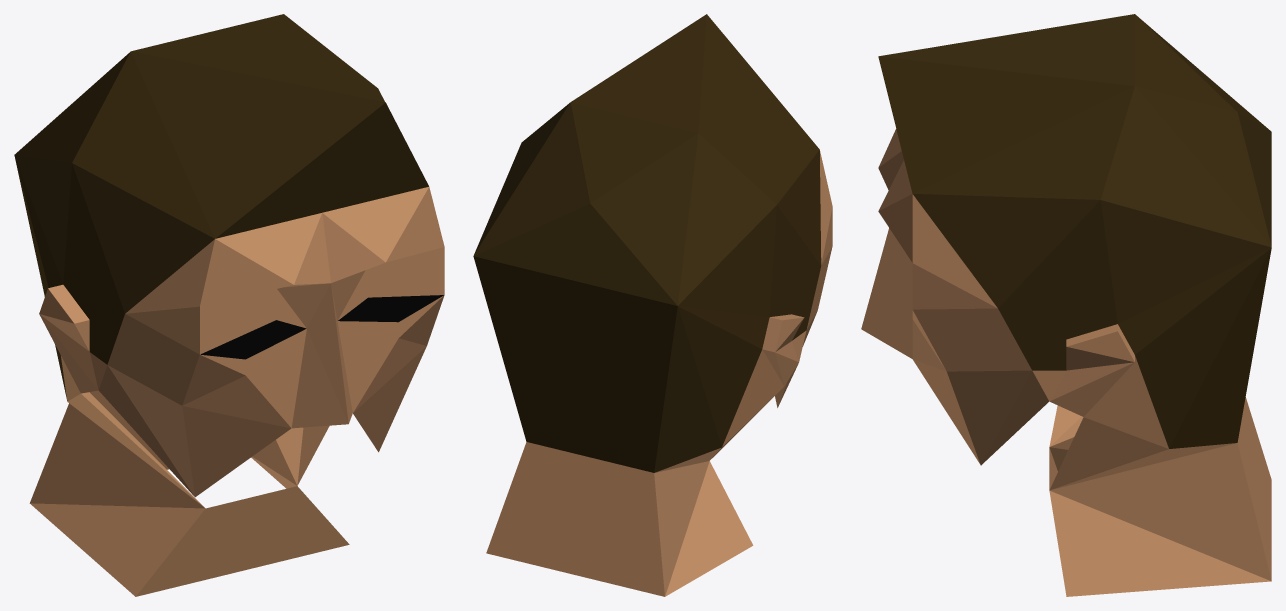
Rendered from model_235_idk.obj.
The picture shows the model from 3 angles, left to right: view 1: azimuth 30°, elevation 25°; view 2: azimuth 150°, elevation 25°; view 3: azimuth 270°, elevation 25°; orthographic projection. The views are drawn at different scales.
Parts seen in each view (by area): view 1: 235; view 2: 235; view 3: 235.
Part boxes in pixels (x1=…): 235: x1=14, y1=14, x2=444, y2=596; 235: x1=473, y1=14, x2=832, y2=596; 235: x1=861, y1=14, x2=1271, y2=596.
Bounding box in the file's own units: 22 × 33 × 24.
